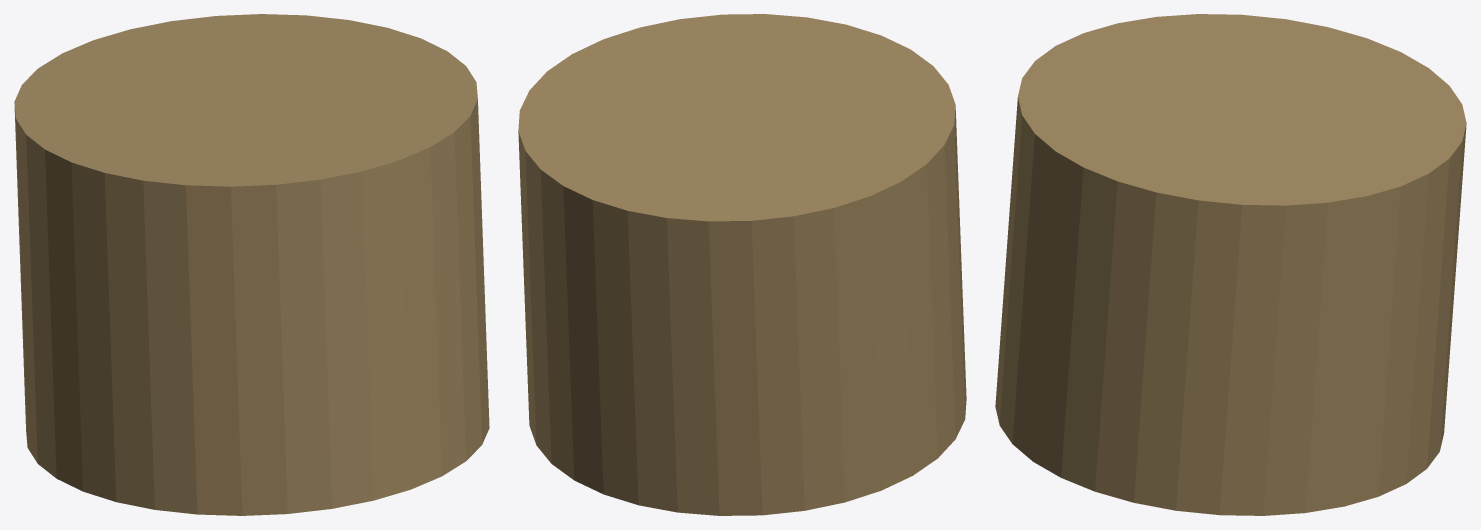
File: left_shoulder_x_link_visual_5.obj.light.glb
3 views of the same model, side by side, from view 1: azimuth 30°, elevation 25°; view 2: azimuth 150°, elevation 25°; view 3: azimuth 270°, elevation 25° (orthographic). The views are drawn at different scales.
Bounding box in the file's own units: 0.0716 × 0.0592 × 0.075.
